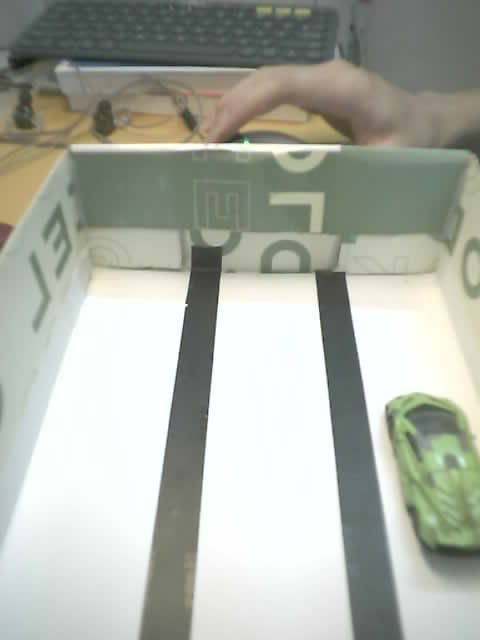vehicle: (384, 393, 465, 586)
